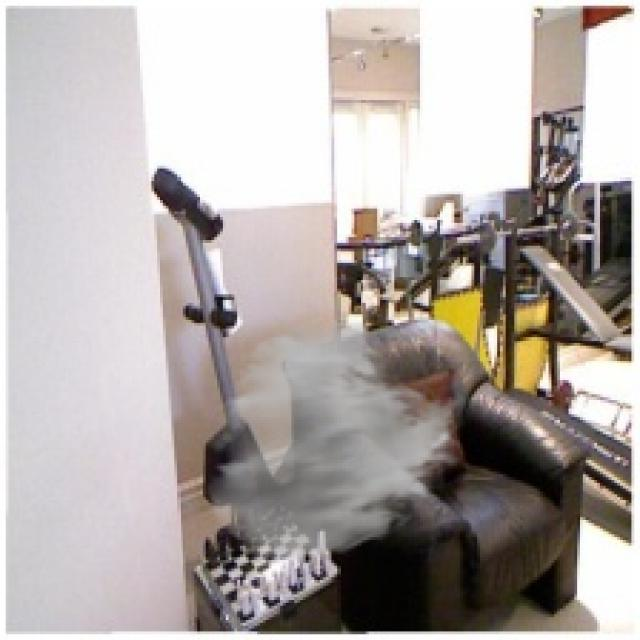smoke: (203, 314, 471, 566)
